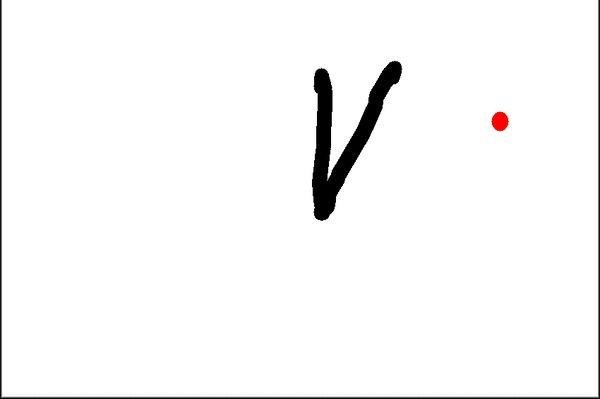V: (305, 54, 407, 226)
